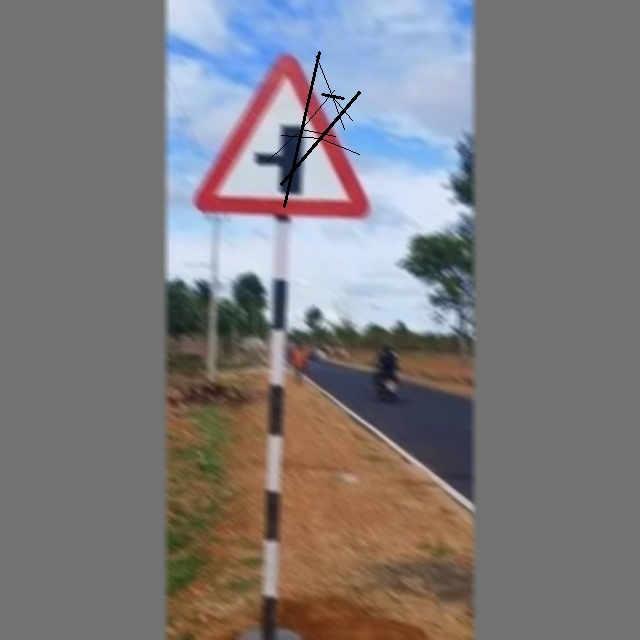Side_Road_Left: (201, 52, 370, 224)
